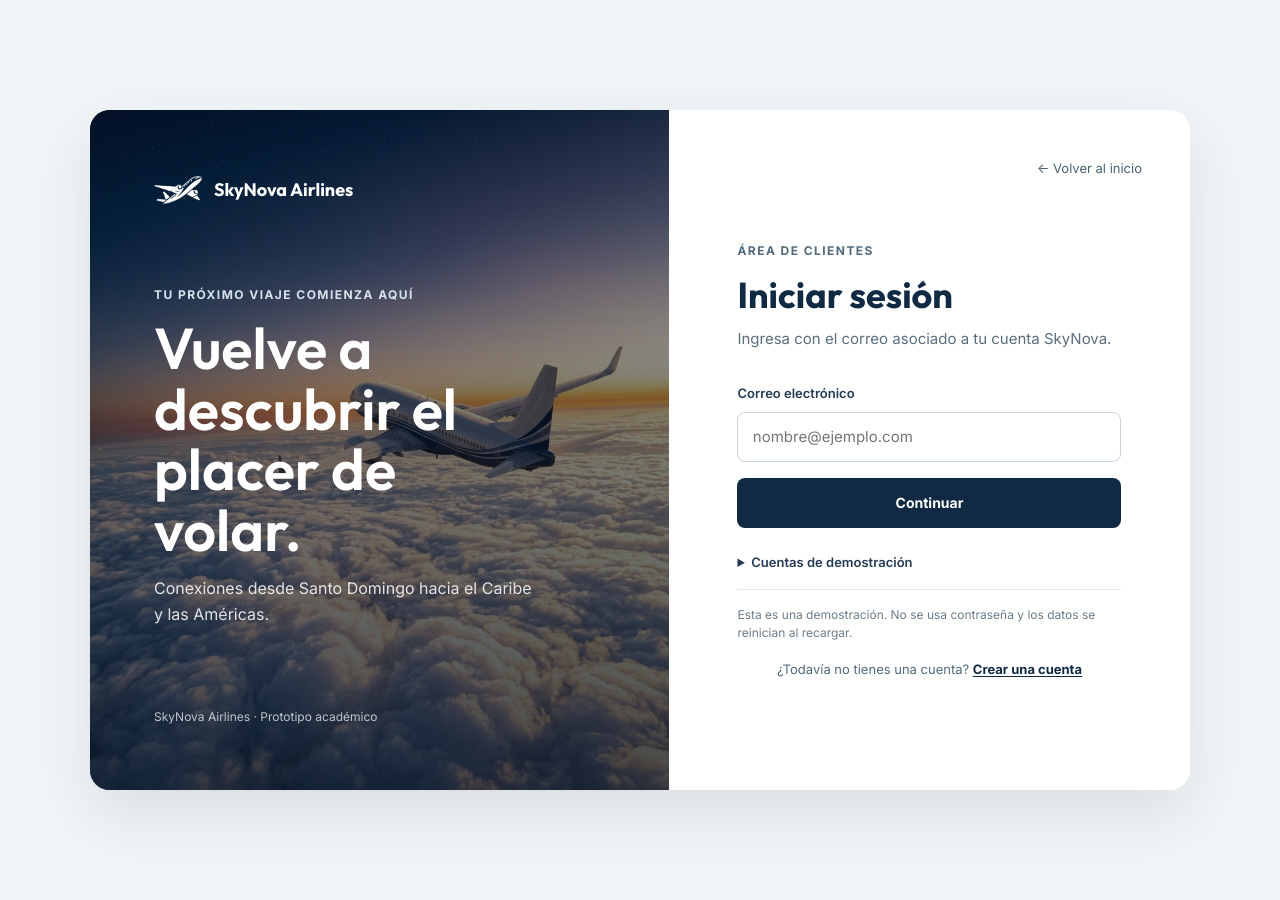
Test: LoginPage — login flow › shows a controlled error for an unknown email
Type "nadie@demo.test" into the field labelled "Correo electrónico" at point(930, 437), box top-left (738, 412), bottom-right (1122, 462)
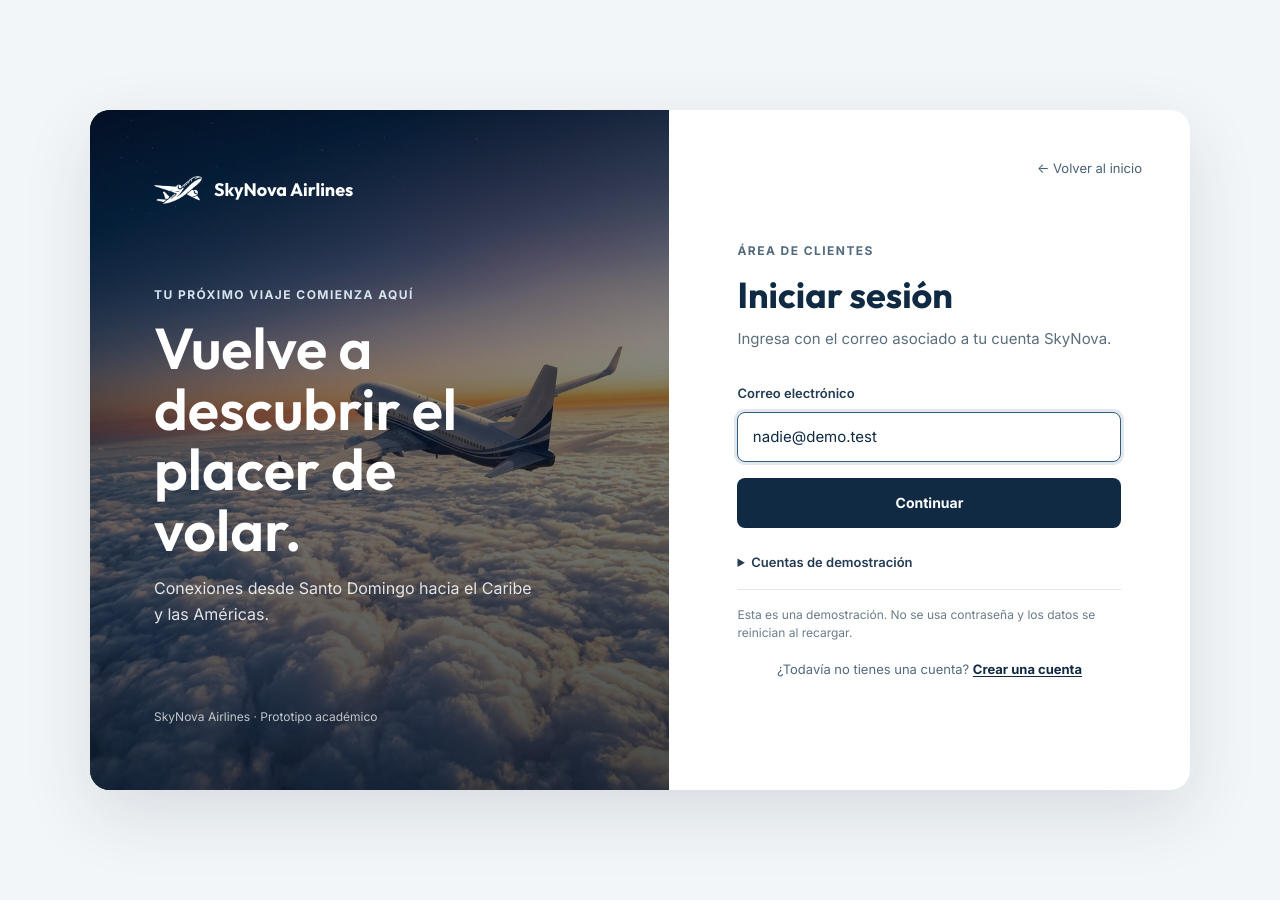
Click the button "Continuar" at point(930, 503), box top-left (738, 478), bottom-right (1122, 528)
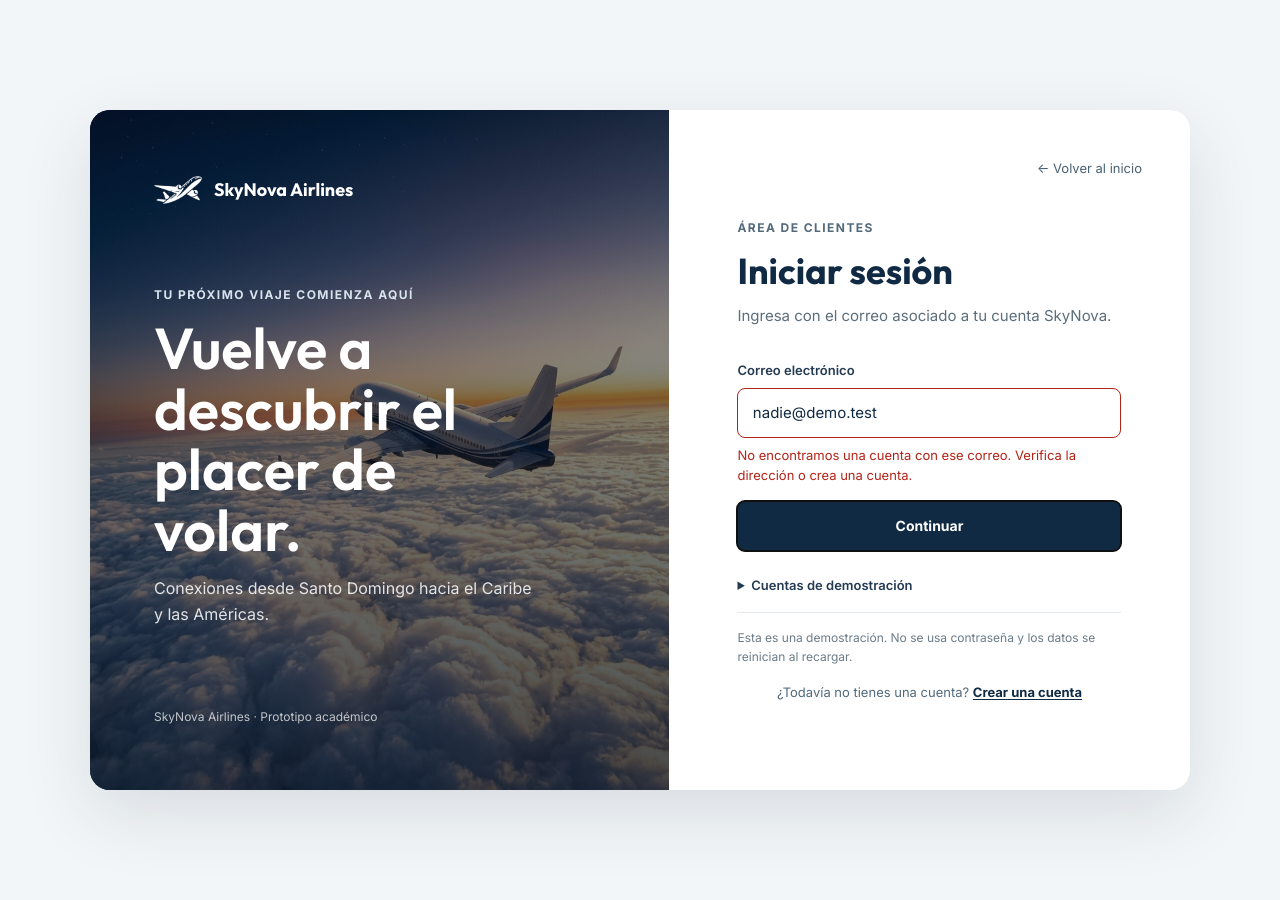
expect the text "No encontramos una cuenta con ese correo" is shown: met, box top-left (738, 448), bottom-right (1076, 483)
